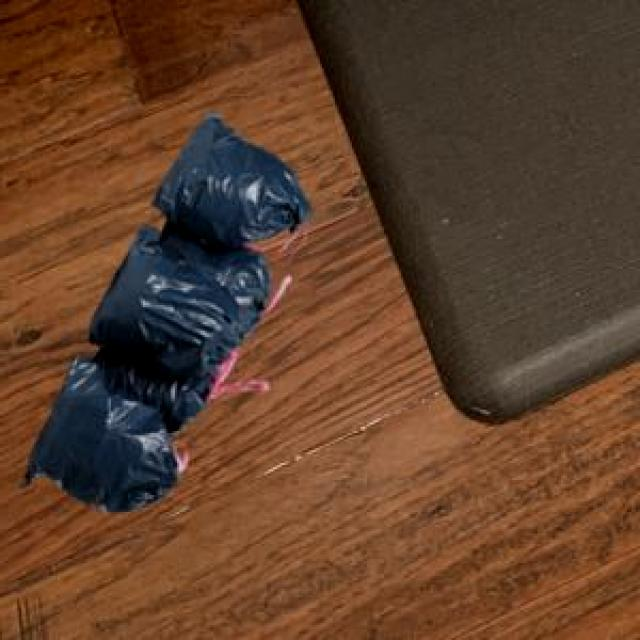Trashbag: (19, 348, 185, 519), (152, 111, 314, 242), (92, 230, 239, 374)
